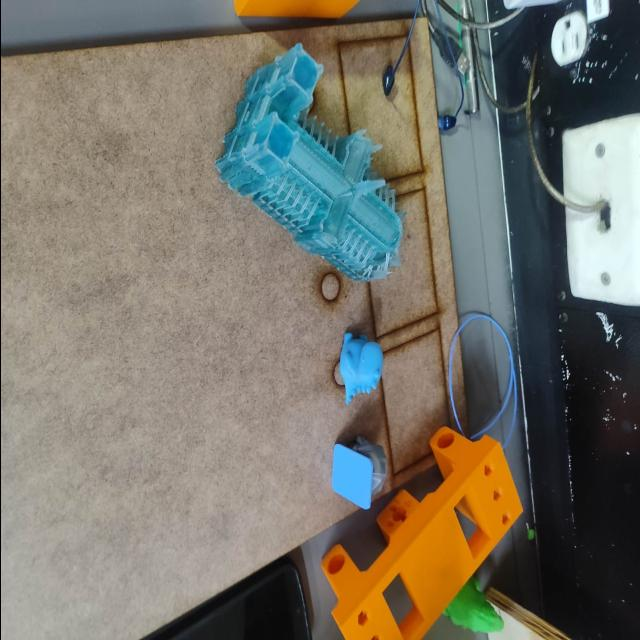DINO: (332, 327, 388, 409)
